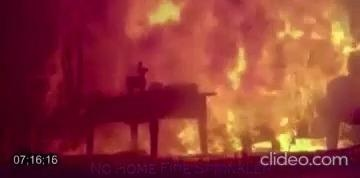fire: (43, 0, 360, 146)
